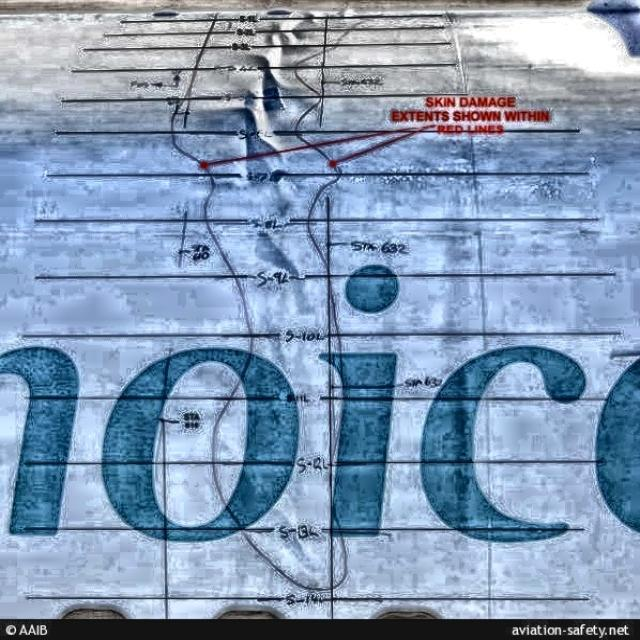dent: (193, 9, 325, 183), (252, 232, 318, 319)
